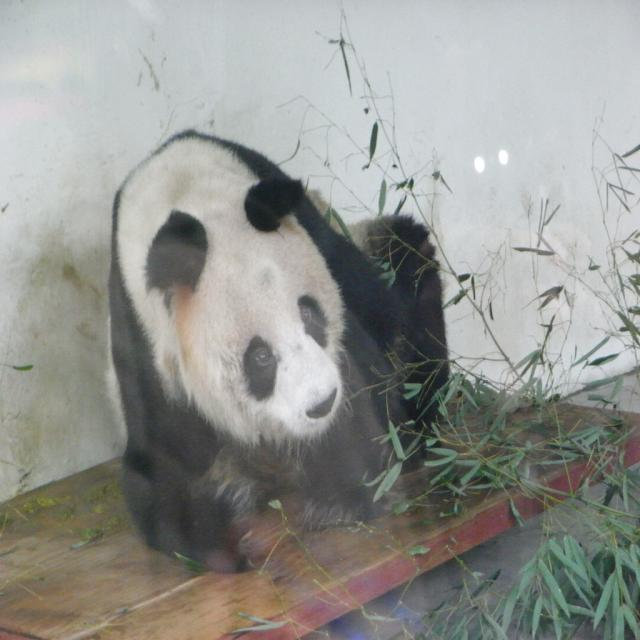panda: (105, 125, 447, 572)
